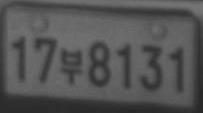1: (166, 47, 189, 93), (9, 35, 32, 80), (114, 44, 137, 89)
3: (141, 44, 163, 91)
7: (34, 37, 57, 83)
8: (88, 41, 111, 87)
부: (60, 48, 83, 85)
